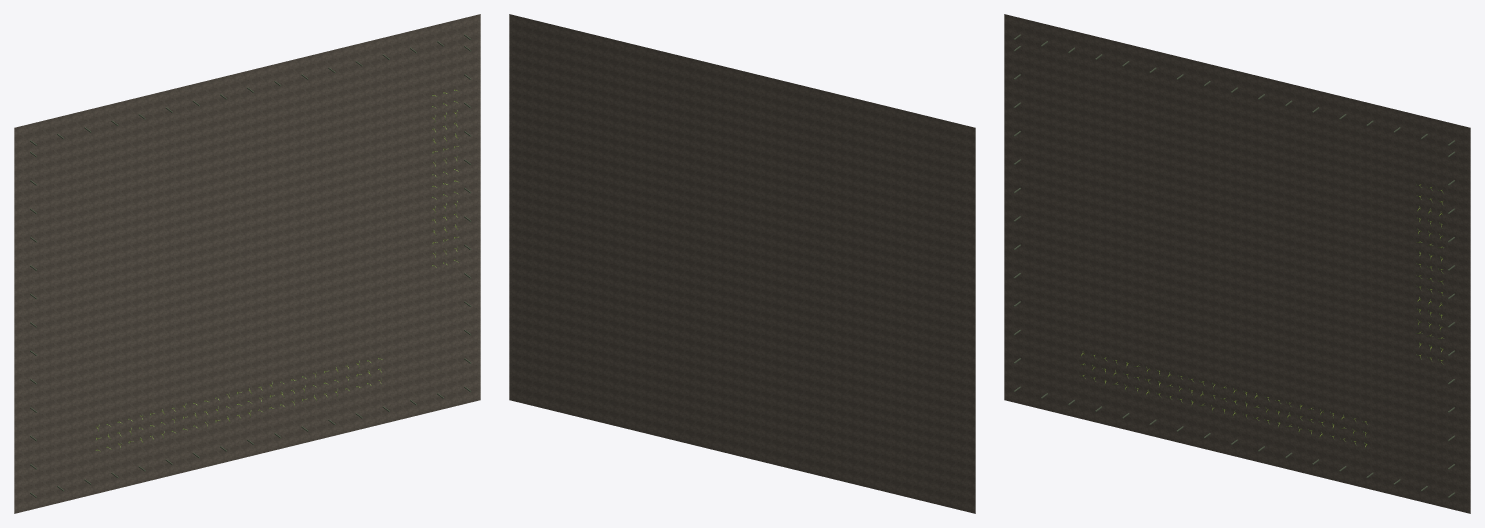
3 renders of one model, left to right at view 1: azimuth 30°, elevation 25°; view 2: azimuth 150°, elevation 25°; view 3: azimuth 330°, elevation 25°, orthographic.
Visible parts, largest first — view 1: Flat_transport_headland_Plane; view 2: Flat_transport_headland_Plane; view 3: Flat_transport_headland_Plane.
Part boxes in pixels (left/top/right/bottom): Flat_transport_headland_Plane: left=14, top=14, right=480, bottom=513; Flat_transport_headland_Plane: left=509, top=14, right=975, bottom=513; Flat_transport_headland_Plane: left=1004, top=14, right=1470, bottom=513.
Bounding box in the file's own units: 86 × 68 × 2.
3 materials, 2 textured.
